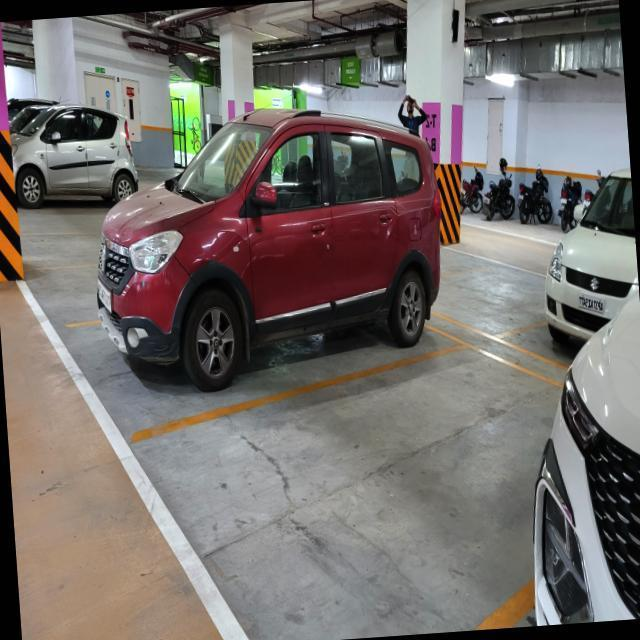space-empty: (115, 348, 529, 634), (428, 248, 552, 338)
space-occupied: (92, 202, 432, 408), (528, 167, 638, 379)
